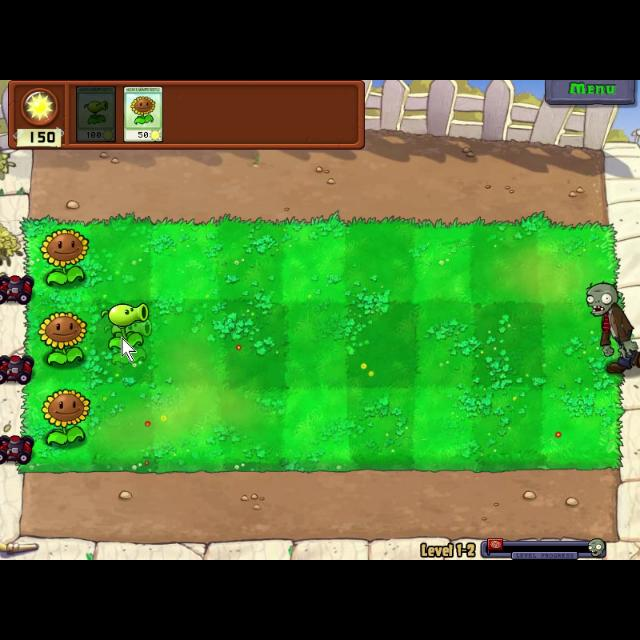Garden: (19, 214, 623, 478)
Menu Button: (544, 80, 636, 104)
Mower: (0, 349, 36, 386), (0, 271, 34, 305), (0, 431, 32, 467)
Peashooter: (74, 84, 116, 144)
Peashooter Seed: (95, 300, 155, 362)
Seed Panel: (7, 80, 367, 150)
Sunflower: (122, 84, 164, 144)
Sunflower Seed: (37, 384, 91, 452), (37, 311, 95, 371), (38, 226, 94, 288)
Zombie: (582, 280, 640, 376)
